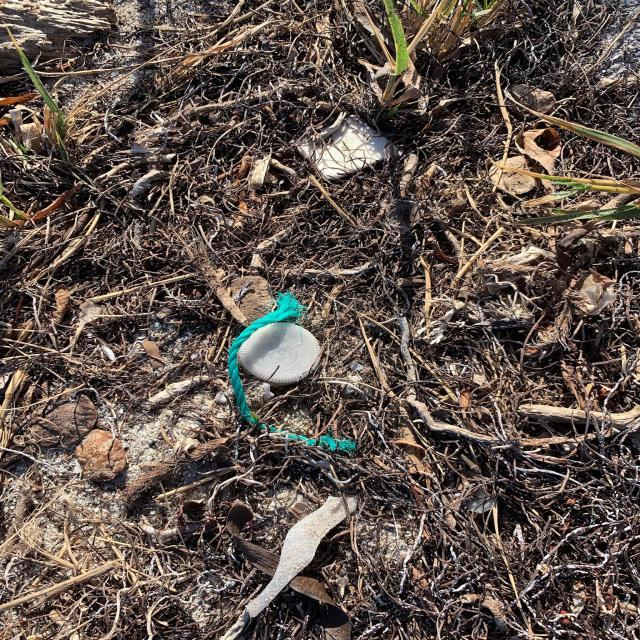litter: (227, 293, 355, 451), (246, 496, 356, 618), (289, 114, 400, 181), (238, 321, 322, 385)
